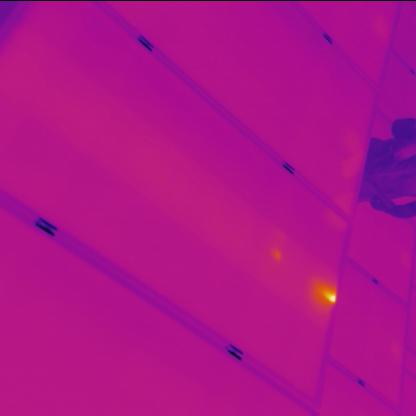hotspot: (314, 281, 338, 312)
